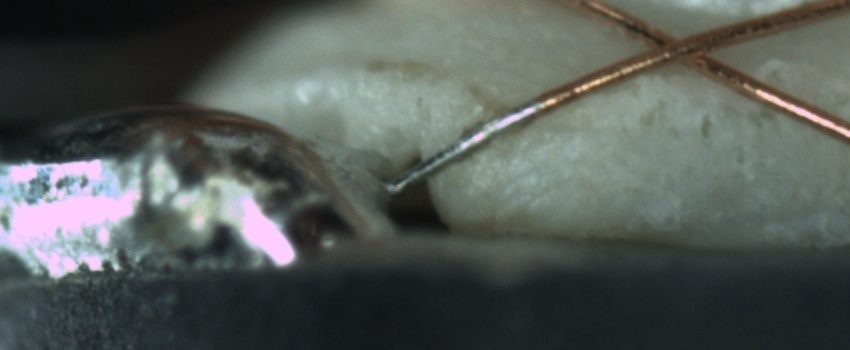CL: (632, 19, 728, 76)
DL: (496, 102, 641, 154)
TS: (390, 103, 542, 194)
